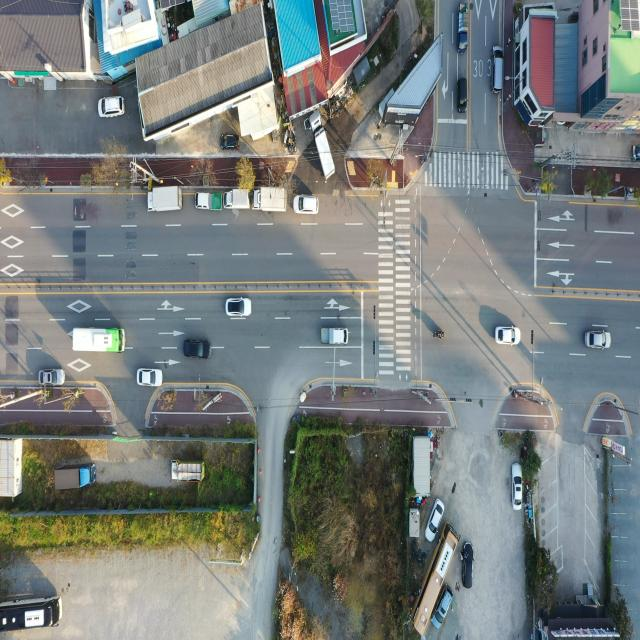car: (431, 584, 452, 624), (426, 501, 444, 544), (492, 40, 506, 92), (461, 535, 475, 583), (98, 96, 126, 119), (186, 340, 211, 361), (227, 299, 252, 320), (495, 325, 520, 345), (585, 331, 610, 351), (136, 368, 162, 387), (296, 195, 320, 215), (40, 368, 66, 386), (514, 464, 524, 510), (221, 130, 240, 154), (456, 79, 468, 115)
large_bus: (413, 528, 462, 634), (0, 596, 63, 633), (71, 328, 128, 354)
medium_truck: (310, 126, 339, 182), (49, 460, 97, 491), (148, 184, 185, 213), (251, 185, 288, 213)
small_truck: (172, 459, 206, 484), (319, 326, 349, 348), (457, 0, 469, 53), (224, 188, 251, 210), (195, 192, 222, 212)
